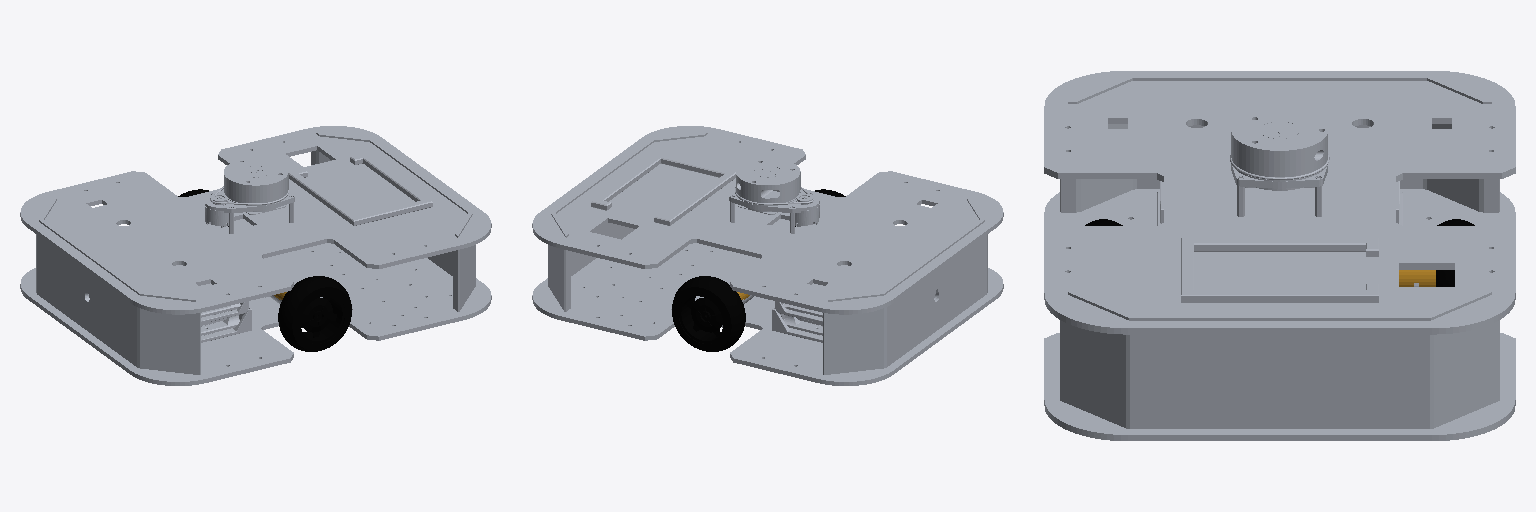
The robot description file, URDF, robot "vacuum_robot":
<?xml version="1.0"?>
<robot name="vacuum_robot">
  <!--
    PHYSICAL DRIVE CONTRACT
    =======================
    Two bidirectional GA25 encoder motors, 12 V DC, 45:1 gearbox:
      armature speed                 6000 rpm
      no-load output speed           130 rpm +/-10 %
      no-load current                0.060 A per motor
      rated-load output speed        100 rpm +/-10 %
      rated-load current             0.300 A per motor
      rated output torque            1.0 kgf.cm = 0.0980665 N.m
      stall current                  1.3 A per motor
      stall output torque            3.6 kgf.cm = 0.3530394 N.m
      motor body                     68 mm long, 25 mm diameter

    The continuous wheel joints use the measured no-load output speed as their
    absolute velocity limit and the stall torque as their absolute effort
    limit. Rated torque/speed, not these absolute limits, remain the normal
    operating region. Never command or hold a stalled/locked rotor.

    POWER CONTRACT
    ==============
    16 x 18650 cells, 2600 mAh each, 5C / 13 A, connected 4S4P. For the usual
    3.7 V nominal / 4.2 V full Li-ion cell assumption this gives 14.8 V
    nominal, 16.8 V full, 10.4 Ah and 153.92 Wh. The motor rail therefore must
    be regulated to 12 V; a full 4S pack must not feed a 12 V GA25 directly.
    Cell chemistry, BMS, fuse, wiring, regulator and motor-driver ratings must
    be verified on the actual hardware. Encoder resolution was not supplied
    and is deliberately not invented here.

    The machine-readable electrical contract and all derived quantities live
    in config/real_robot_profile.yaml. URDF represents geometry, frames,
    transmissions and joint limits only.
  -->
  <material name="silver"><color rgba="0.72 0.74 0.78 1.0"/></material>
  <material name="black_rubber"><color rgba="0.04 0.04 0.04 1.0"/></material>
  <material name="motor_brass"><color rgba="0.70 0.52 0.18 1.0"/></material>

  <!-- base_link is centred on the differential axle at z = wheel radius. -->
  <link name="base_link">
    <!-- Physics inertia lives in model.sdf. Keeping inertia off the URDF root
         avoids KDL's unsupported-root-inertia warning in state publisher. -->
    <visual>
      <origin xyz="-0.035315 0.200943 -0.211698" rpy="0 0 0"/>
      <geometry>
        <mesh filename="package://vacuum_robot_gazebo/models/vacuum_robot/meshes/base_link.stl"
          scale="0.001 0.001 0.001"/>
      </geometry>
      <material name="silver"/>
    </visual>
    <collision name="lower_center_collision">
      <origin xyz="0 0 0.0675" rpy="0 0 0"/>
      <geometry><box size="0.44 0.20 0.10"/></geometry>
    </collision>
    <collision name="front_cross_collision">
      <origin xyz="0.16 0 0.0675" rpy="0 0 0"/>
      <geometry><box size="0.12 0.34 0.10"/></geometry>
    </collision>
    <collision name="rear_cross_collision">
      <origin xyz="-0.16 0 0.0675" rpy="0 0 0"/>
      <geometry><box size="0.12 0.34 0.10"/></geometry>
    </collision>
    <collision name="upper_deck_collision">
      <origin xyz="0 0 0.0975" rpy="0 0 0"/>
      <geometry><box size="0.44 0.34 0.04"/></geometry>
    </collision>
    <collision name="front_left_ball_collision">
      <origin xyz="0.15 0.09 -0.0365" rpy="0 0 0"/>
      <geometry><sphere radius="0.006"/></geometry>
    </collision>
    <collision name="front_right_ball_collision">
      <origin xyz="0.15 -0.09 -0.0365" rpy="0 0 0"/>
      <geometry><sphere radius="0.006"/></geometry>
    </collision>
    <collision name="rear_left_ball_collision">
      <origin xyz="-0.15 0.09 -0.0365" rpy="0 0 0"/>
      <geometry><sphere radius="0.006"/></geometry>
    </collision>
    <collision name="rear_right_ball_collision">
      <origin xyz="-0.15 -0.09 -0.0365" rpy="0 0 0"/>
      <geometry><sphere radius="0.006"/></geometry>
    </collision>
  </link>

  <link name="base_footprint"/>
  <joint name="base_footprint_joint" type="fixed">
    <parent link="base_link"/><child link="base_footprint"/>
    <origin xyz="0 0 -0.0425" rpy="0 0 0"/>
  </joint>

  <!-- Lidar housing is already present in the chassis CAD mesh. -->
  <link name="laser"/>
  <joint name="base_to_laser" type="fixed">
    <parent link="base_link"/><child link="laser"/>
    <origin xyz="0 0 0.10892" rpy="0 0 0"/>
  </joint>

  <!-- Reserved CAD frame in the lower tray, aligned x-forward/y-left/z-up. -->
  <link name="imu_link">
    <visual>
      <geometry><box size="0.025 0.020 0.005"/></geometry>
      <material name="imu_green"><color rgba="0.08 0.50 0.16 1.0"/></material>
    </visual>
  </link>
  <joint name="base_to_imu" type="fixed">
    <parent link="base_link"/><child link="imu_link"/>
    <origin xyz="0 0 -0.0128" rpy="0 0 0"/>
  </joint>

  <!-- Visual-only motor housings. Their shafts are coaxial with the wheel
       joints; collision and inertia are already included in the chassis
       model, so duplicating them here would double-count the same hardware. -->
  <link name="left_motor">
    <visual>
      <origin xyz="0 0 0" rpy="1.57079632679 0 0"/>
      <geometry><cylinder radius="0.0125" length="0.068"/></geometry>
      <material name="motor_brass"/>
    </visual>
  </link>
  <joint name="base_to_left_motor" type="fixed">
    <parent link="base_link"/><child link="left_motor"/>
    <origin xyz="0 0.0934 0" rpy="0 0 0"/>
  </joint>

  <link name="right_motor">
    <visual>
      <origin xyz="0 0 0" rpy="1.57079632679 0 0"/>
      <geometry><cylinder radius="0.0125" length="0.068"/></geometry>
      <material name="motor_brass"/>
    </visual>
  </link>
  <joint name="base_to_right_motor" type="fixed">
    <parent link="base_link"/><child link="right_motor"/>
    <origin xyz="0 -0.0934 0" rpy="0 0 0"/>
  </joint>

  <link name="left_wheel">
    <inertial>
      <origin xyz="-0.000009503 -0.000153866 -0.000012903" rpy="0 0 0"/>
      <mass value="0.2"/>
      <inertia ixx="0.000123851" iyy="0.000221573" izz="0.000123851"
        ixy="0" ixz="0" iyz="0"/>
    </inertial>
    <visual>
      <origin xyz="-0.0353034 0.0735430 -0.2091883" rpy="0 0 0"/>
      <geometry><mesh filename="package://vacuum_robot_gazebo/models/vacuum_robot/meshes/left_wheel_link_1.stl" scale="0.001 0.001 0.001"/></geometry>
      <material name="black_rubber"/>
    </visual>
    <collision><origin rpy="1.57079632679 0 0"/><geometry><cylinder radius="0.0425" length="0.0300"/></geometry></collision>
  </link>
  <joint name="left_wheel_joint" type="continuous">
    <parent link="base_link"/><child link="left_wheel"/><origin xyz="0 0.1274 0"/>
    <axis xyz="0 1 0"/>
    <limit effort="0.3530394" velocity="13.6135681656"/>
    <dynamics damping="0.03" friction="0"/>
  </joint>

  <link name="right_wheel">
    <inertial>
      <origin xyz="-0.000000013 0.000153935 0.000000639" rpy="0 0 0"/>
      <mass value="0.2"/>
      <inertia ixx="0.000123851" iyy="0.000221573" izz="0.000123851"
        ixy="0" ixz="0" iyz="0"/>
    </inertial>
    <visual>
      <origin xyz="-0.0353129 0.3283430 -0.2091955" rpy="0 0 0"/>
      <geometry><mesh filename="package://vacuum_robot_gazebo/models/vacuum_robot/meshes/right_wheel_link_1.stl" scale="0.001 0.001 0.001"/></geometry>
      <material name="black_rubber"/>
    </visual>
    <collision><origin rpy="1.57079632679 0 0"/><geometry><cylinder radius="0.0425" length="0.0300"/></geometry></collision>
  </link>
  <joint name="right_wheel_joint" type="continuous">
    <parent link="base_link"/><child link="right_wheel"/><origin xyz="0 -0.1274 0"/>
    <axis xyz="0 1 0"/>
    <limit effort="0.3530394" velocity="13.6135681656"/>
    <dynamics damping="0.03" friction="0"/>
  </joint>

  <!-- The 45:1 reduction maps each GA25 armature to its output wheel joint.
       Encoder hardware interfaces remain unspecified until the exact encoder
       pulses/revolution and decode mode are measured. -->
  <transmission name="left_ga25_transmission">
    <type>transmission_interface/SimpleTransmission</type>
    <joint name="left_wheel_joint">
      <hardwareInterface>hardware_interface/VelocityJointInterface</hardwareInterface>
    </joint>
    <actuator name="left_ga25_motor">
      <hardwareInterface>hardware_interface/VelocityJointInterface</hardwareInterface>
      <mechanicalReduction>45</mechanicalReduction>
    </actuator>
  </transmission>

  <transmission name="right_ga25_transmission">
    <type>transmission_interface/SimpleTransmission</type>
    <joint name="right_wheel_joint">
      <hardwareInterface>hardware_interface/VelocityJointInterface</hardwareInterface>
    </joint>
    <actuator name="right_ga25_motor">
      <hardwareInterface>hardware_interface/VelocityJointInterface</hardwareInterface>
      <mechanicalReduction>45</mechanicalReduction>
    </actuator>
  </transmission>

</robot>

--- What the picture shows (computed from the rendered views, not written in the file) ---
Views: 3 orthographic renders of the robot side by side, from view 1: azimuth 30°, elevation 25°; view 2: azimuth 150°, elevation 25°; view 3: azimuth 270°, elevation 25°.
Robot: vacuum_robot — 8 links, 7 joints (2 continuous, 5 fixed); root link base_link; default pose: all joints at 0.
Visible links, largest first — view 1: base_link, right_wheel; view 2: base_link, left_wheel; view 3: base_link, left_motor.
Link boxes in pixels (x1=…): base_link: x1=20, y1=126, x2=491, y2=385; right_wheel: x1=278, y1=276, x2=351, y2=351; base_link: x1=532, y1=126, x2=1003, y2=385; left_wheel: x1=672, y1=276, x2=745, y2=351; base_link: x1=1044, y1=71, x2=1515, y2=440; left_motor: x1=1399, y1=270, x2=1435, y2=286.
Size in the robot's own frame: 0.44 by 0.34 by 0.16 metres.
Meshes: 3 distinct files referenced, 3 mesh visuals loaded (3 binary STL).
